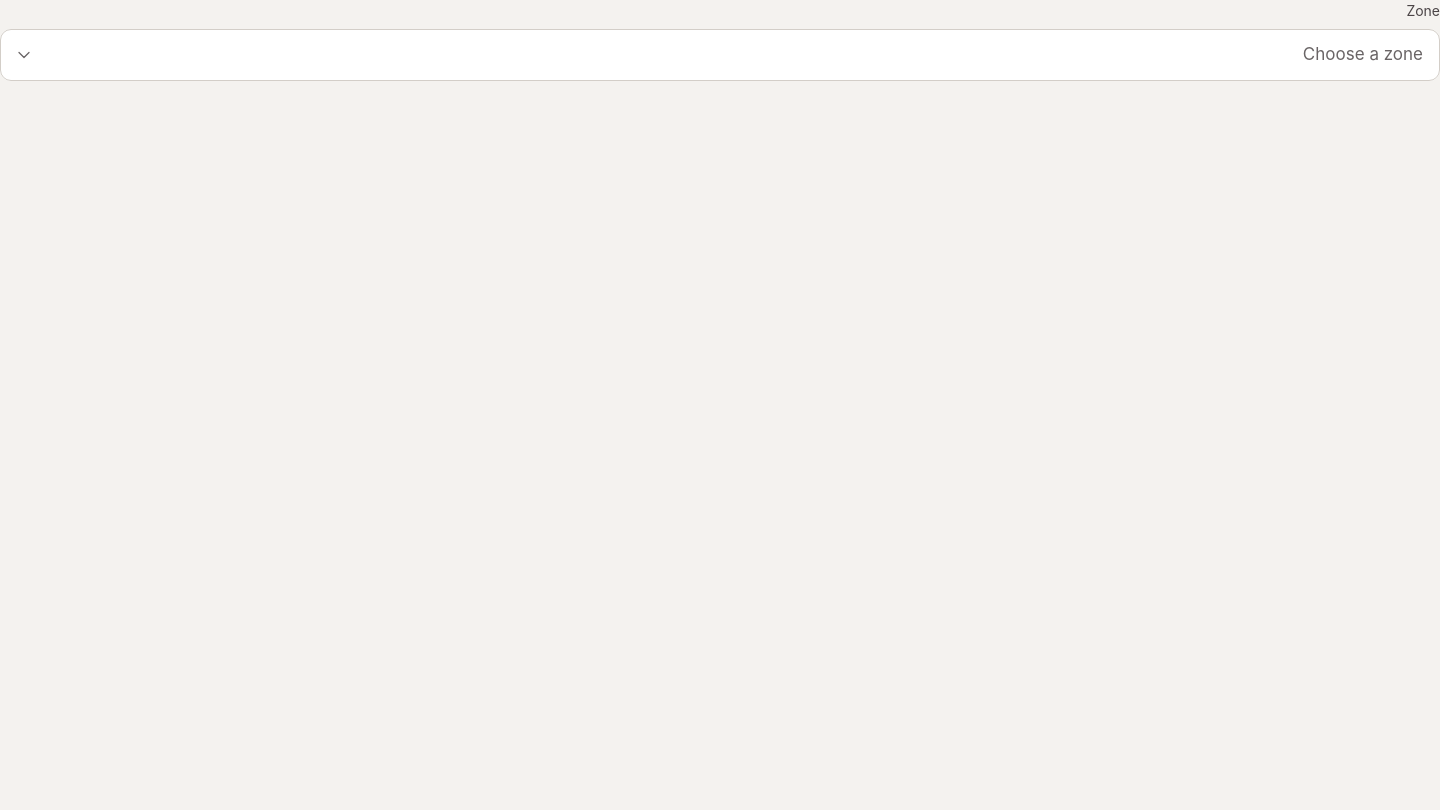
Test case: SelectField › opens a searchable sheet for a long list and selects from it
Click the button "Choose a zone".
click(1363, 54)  # box [0, 29, 1439, 81]
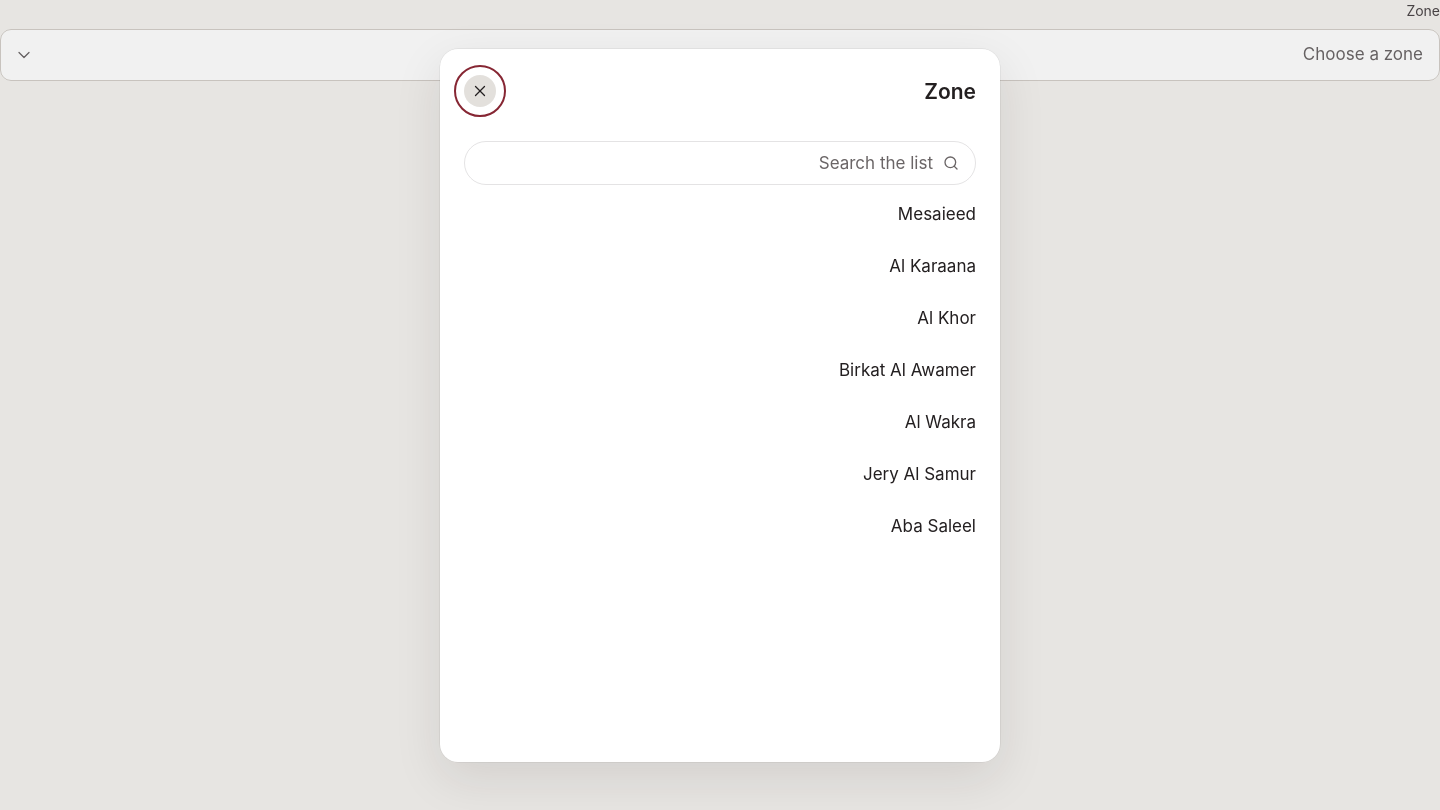
Type "بركه" into the search field with placeholder "Search the list".
click(704, 163); type("بركه")  # box [464, 141, 943, 185]
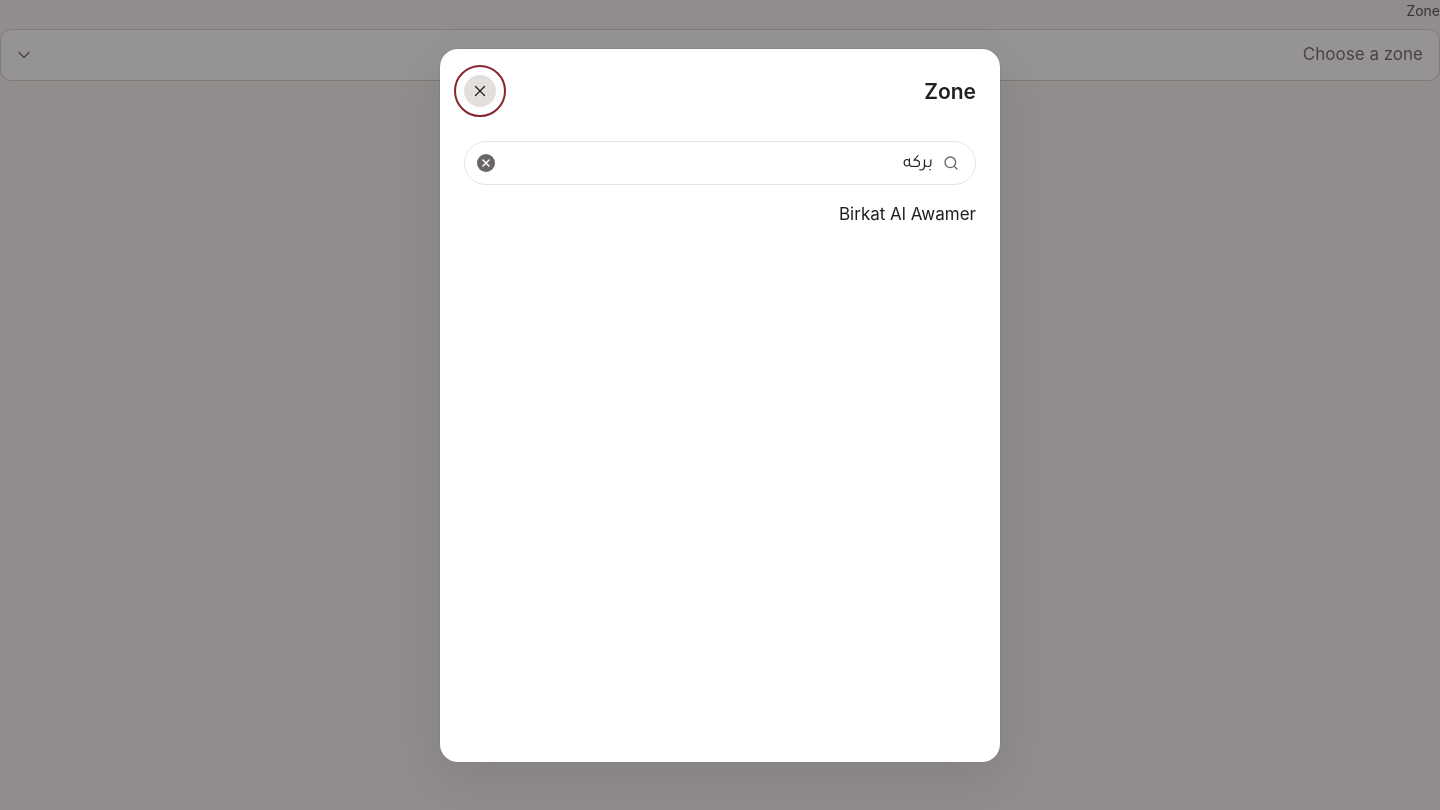
Now the option "Birkat Al Awamer" is shown, box [452, 189, 988, 241]
Replace the text in the search field named "Search the list" with "zzz" at x=726, y=163, box [508, 141, 943, 185]
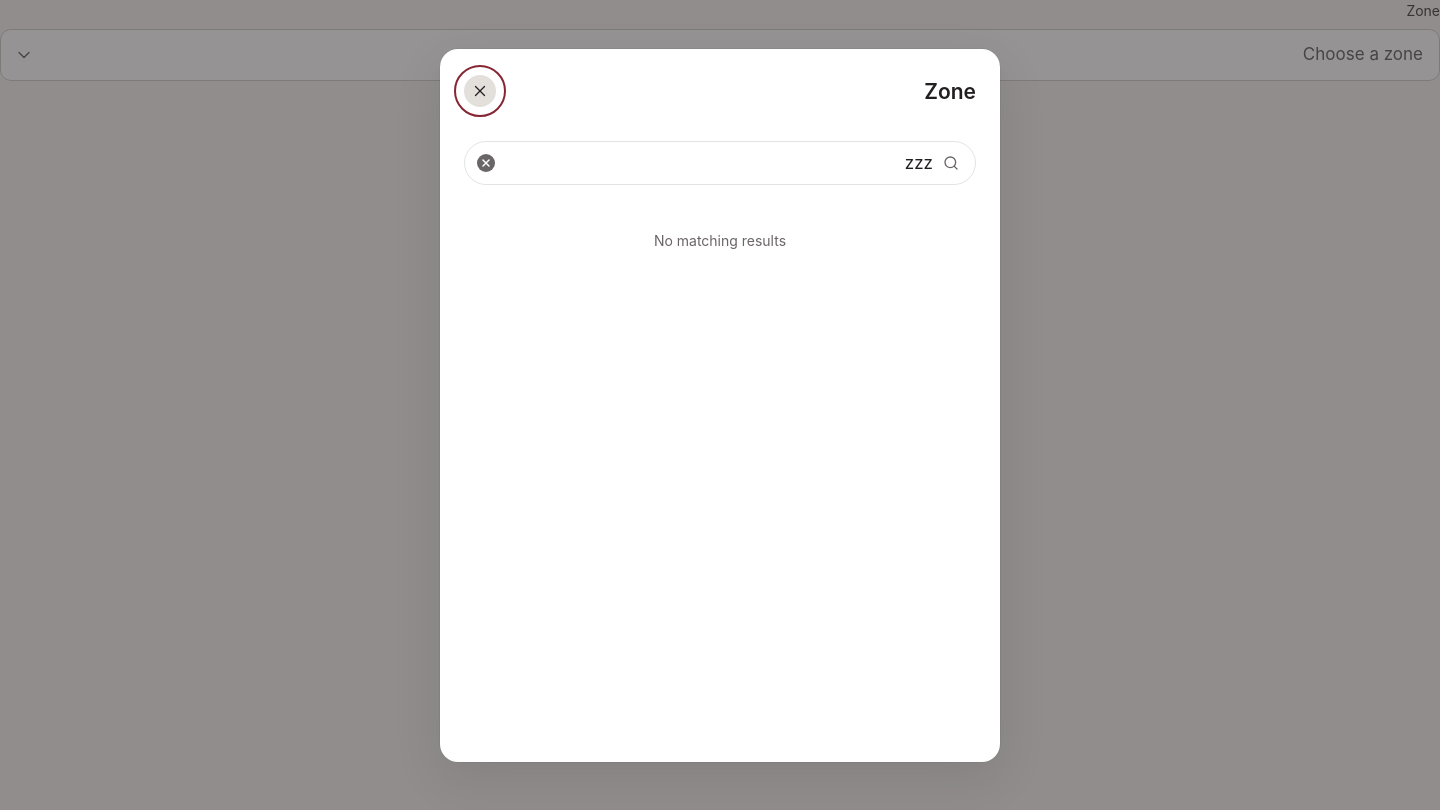
Replace the text in the search field named "Search the list" with "al w" at x=726, y=163, box [508, 141, 943, 185]
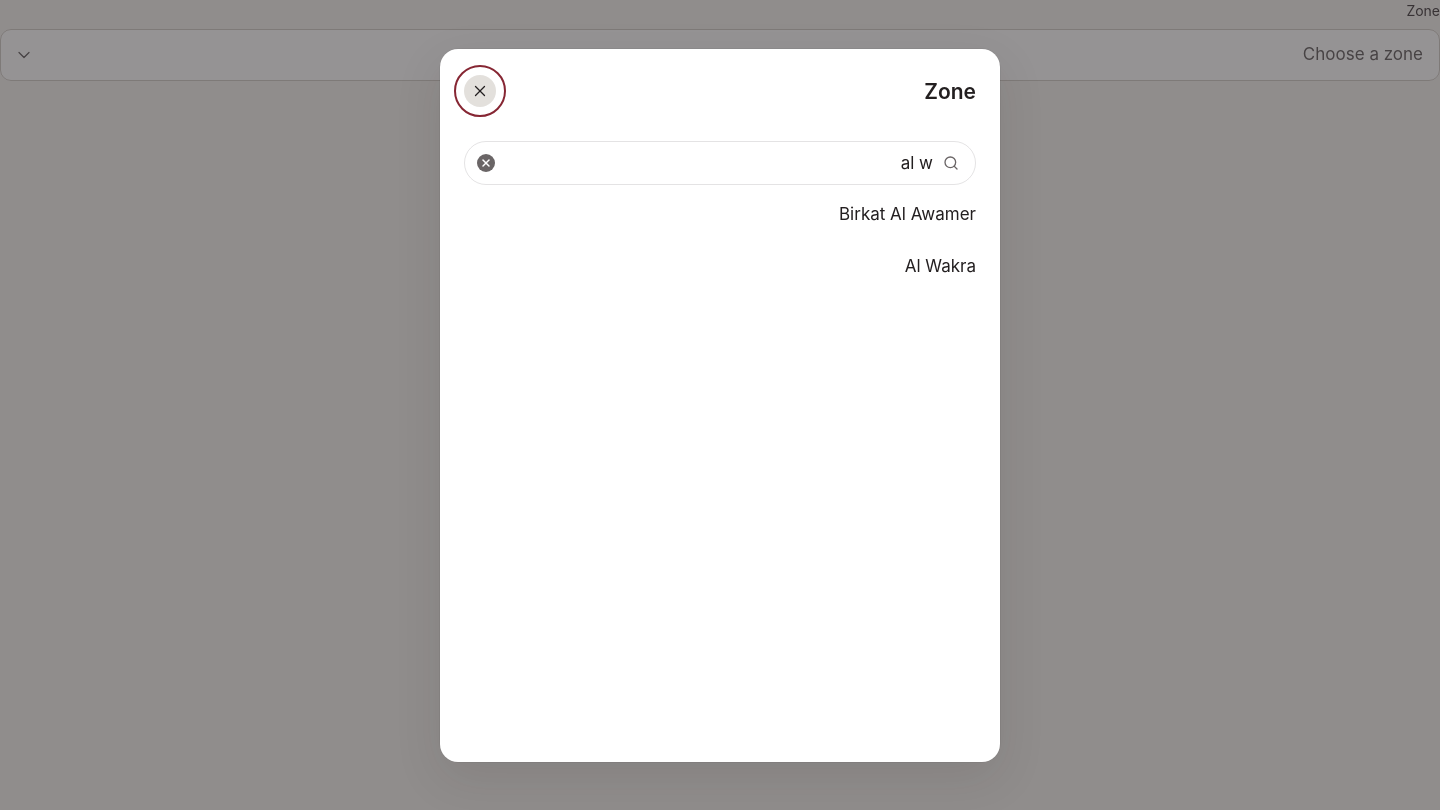
Click the option "Al Wakra".
click(940, 266)  # box [452, 241, 988, 293]
Wait 400 ms
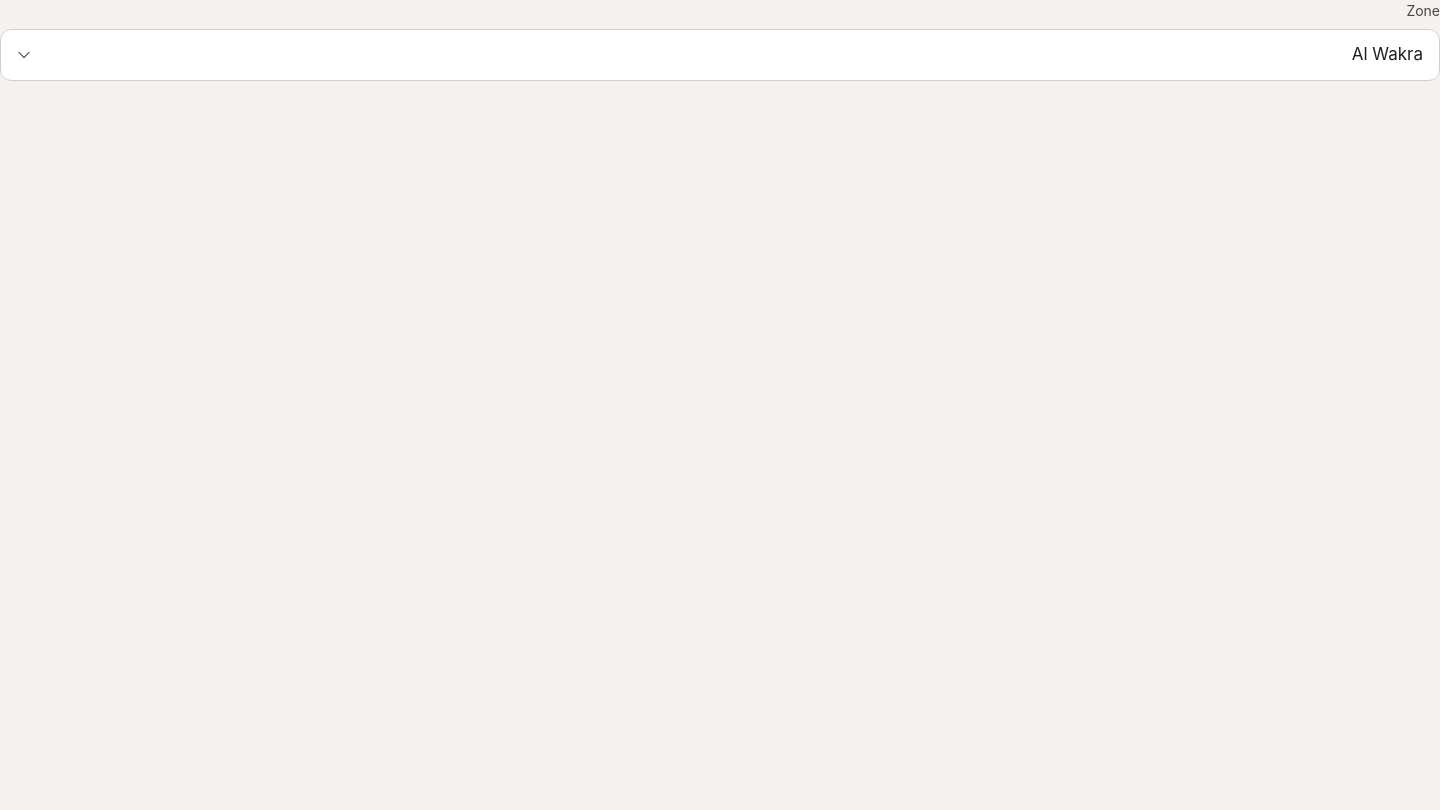
Now the button "Al Wakra" is shown, box [0, 29, 1439, 81]
